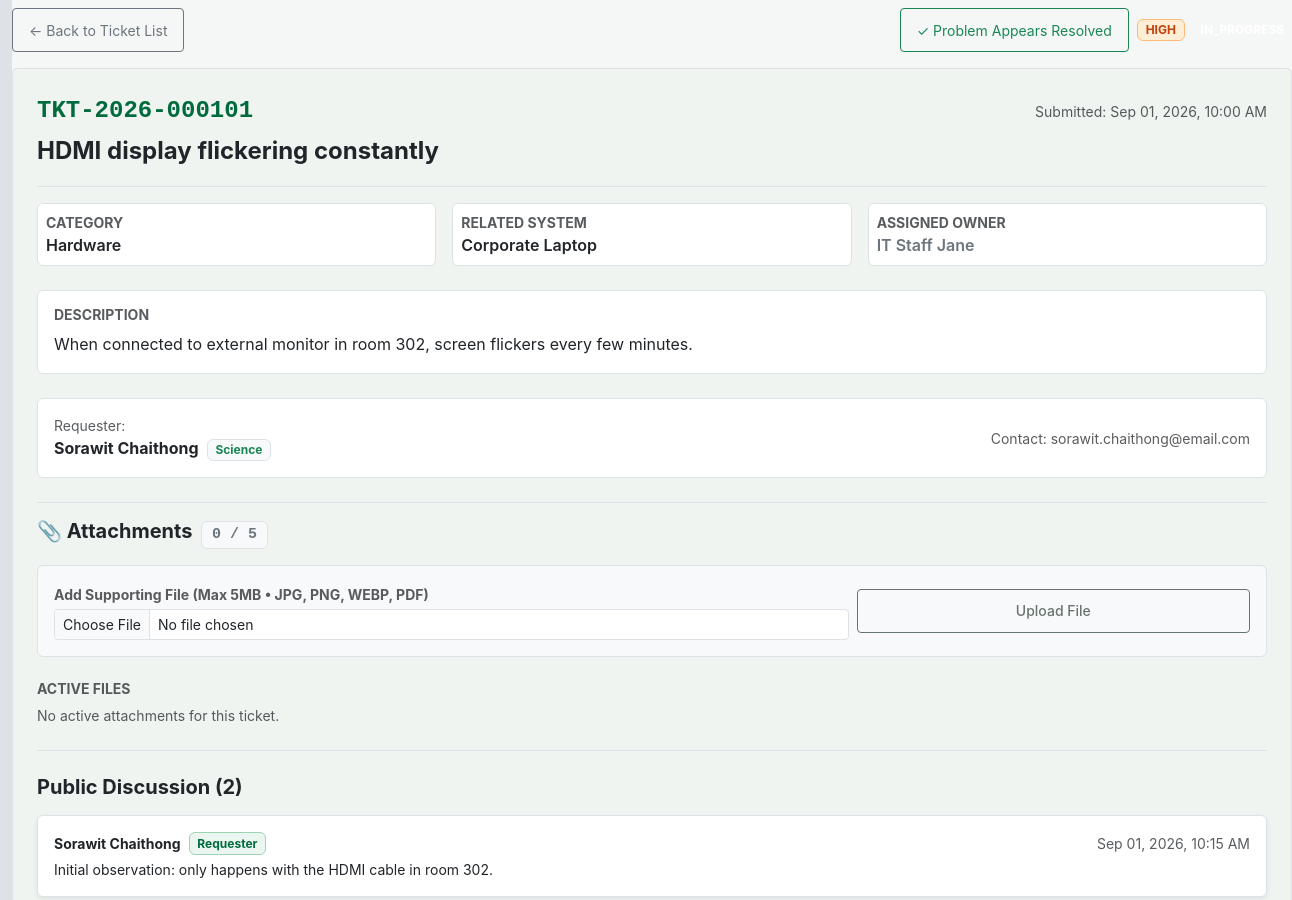
Test case: TicketDetail - Public Comments & Problem Resolution (FR-06, FR-07 / AC-10, AC-11) › UI-04 / AC-11: shows resolution button when unresolved and updates to resolved badge upon click
Click the button with test id "indicate-resolved-btn": (1014, 30) [900, 8, 1129, 52]
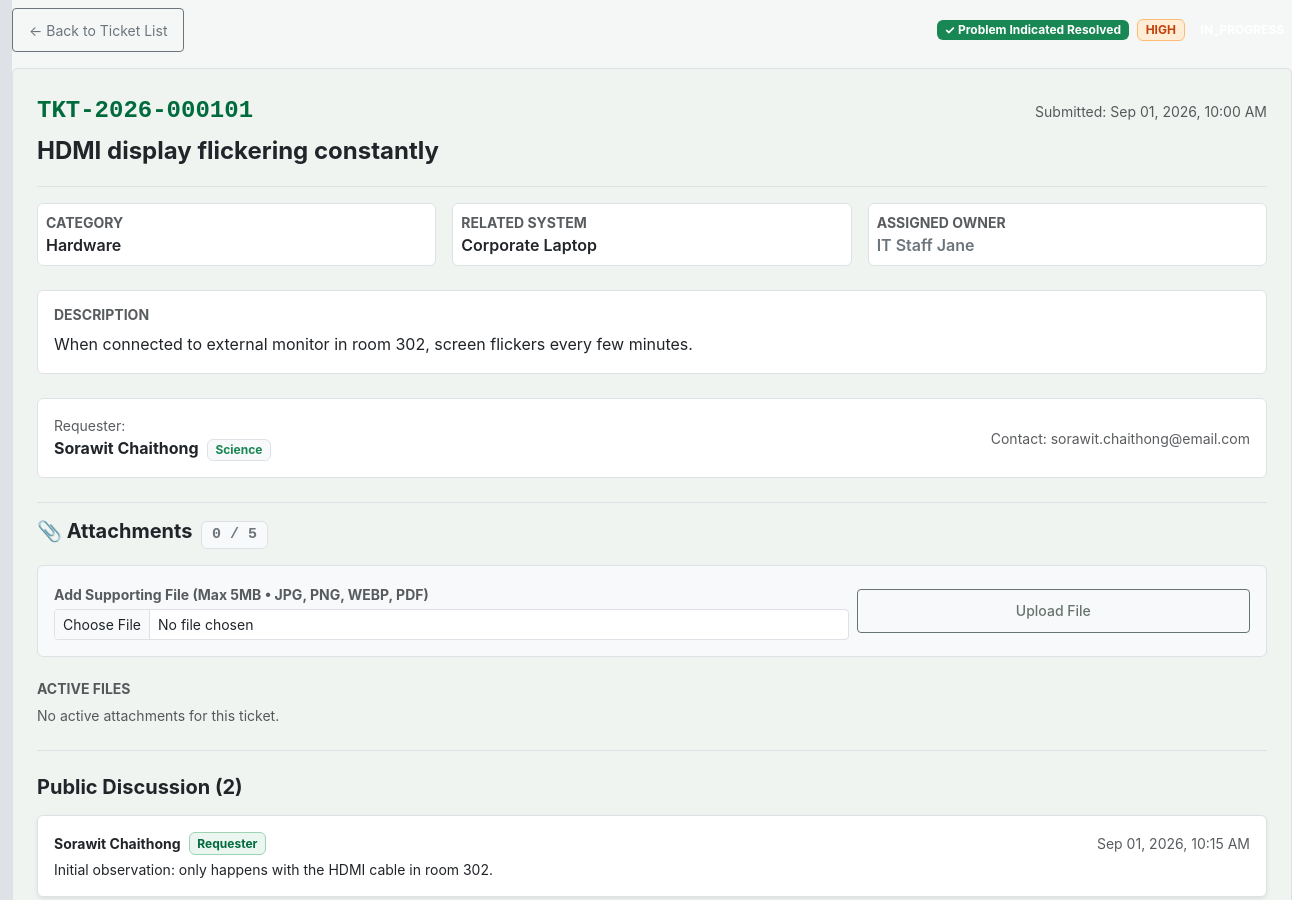
expect the text "✓ Problem Indicated Resolved" is shown: met, box [937, 20, 1129, 40]
expect the button with test id "indicate-resolved-btn" is gone: met
